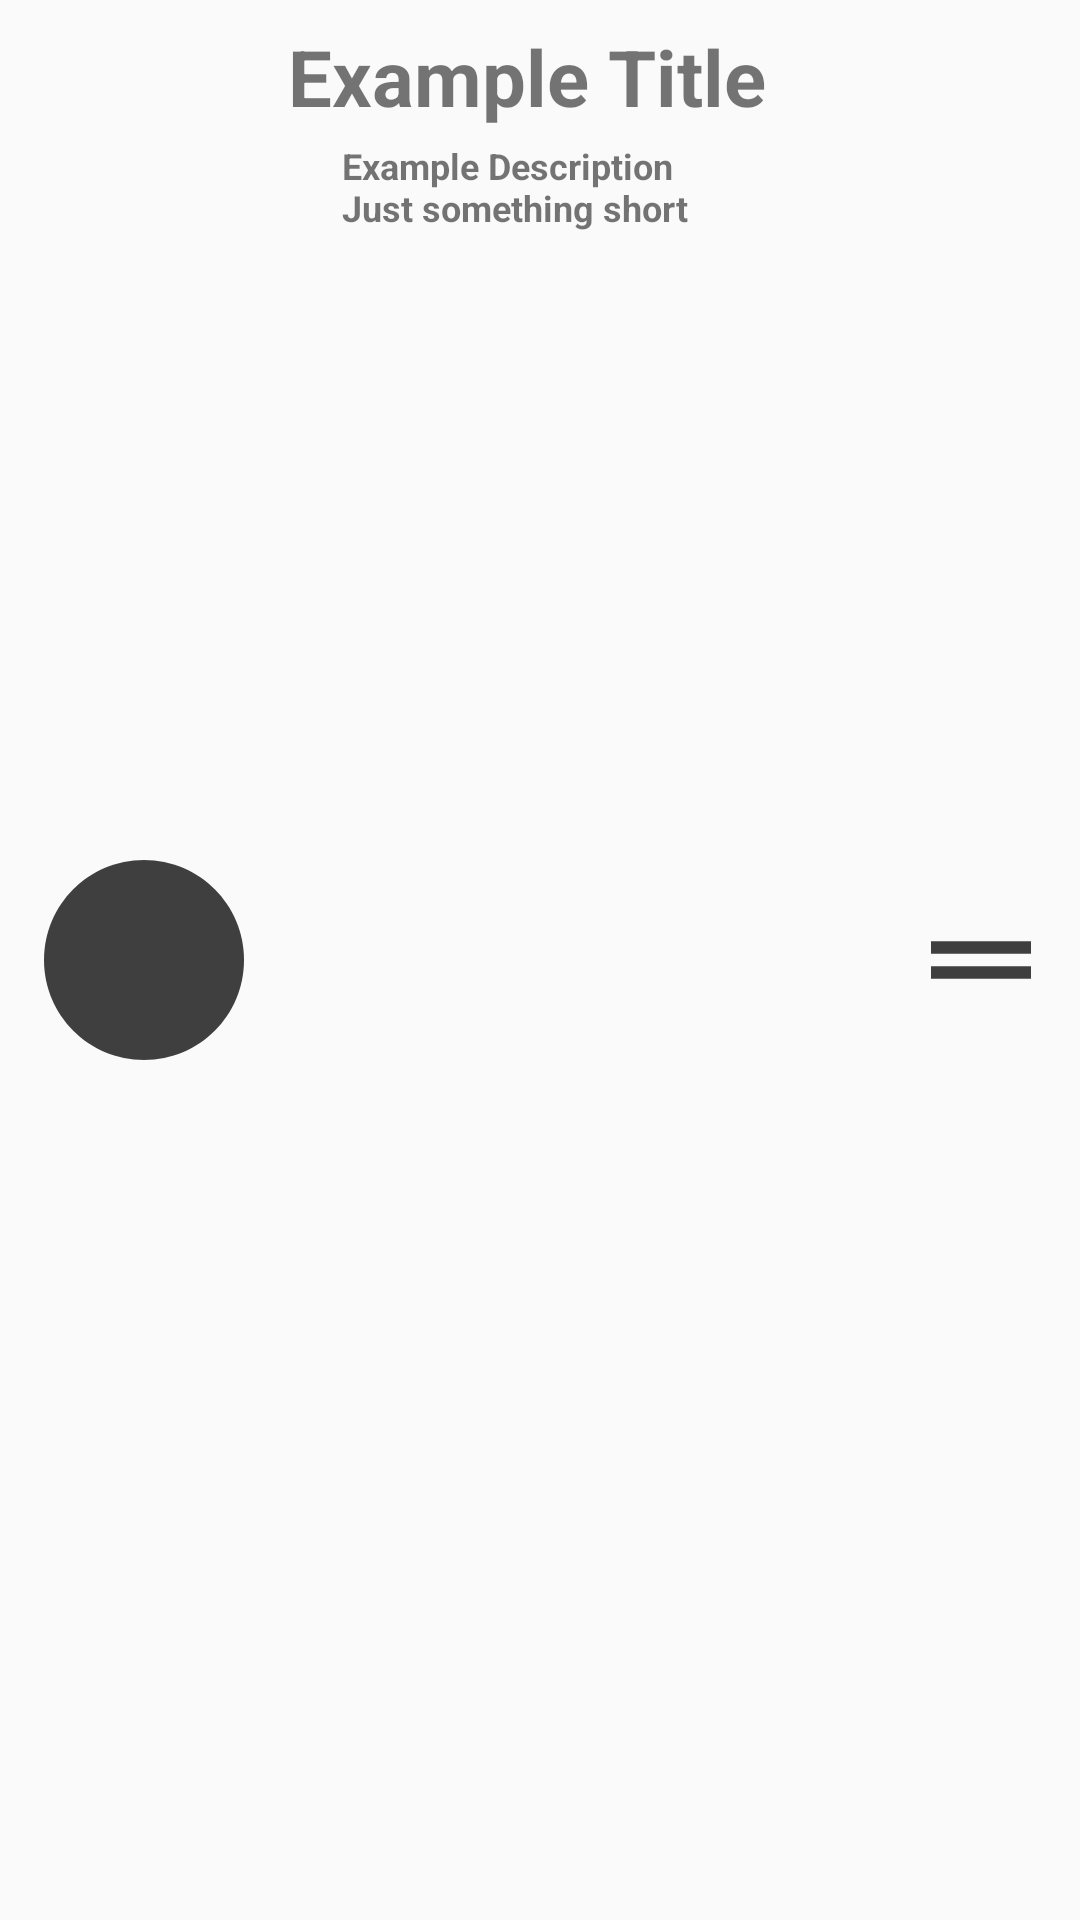

Named icons in this screenshot (1080×1920) and their centers, point (x, y):
drag handle: point (981, 960)
